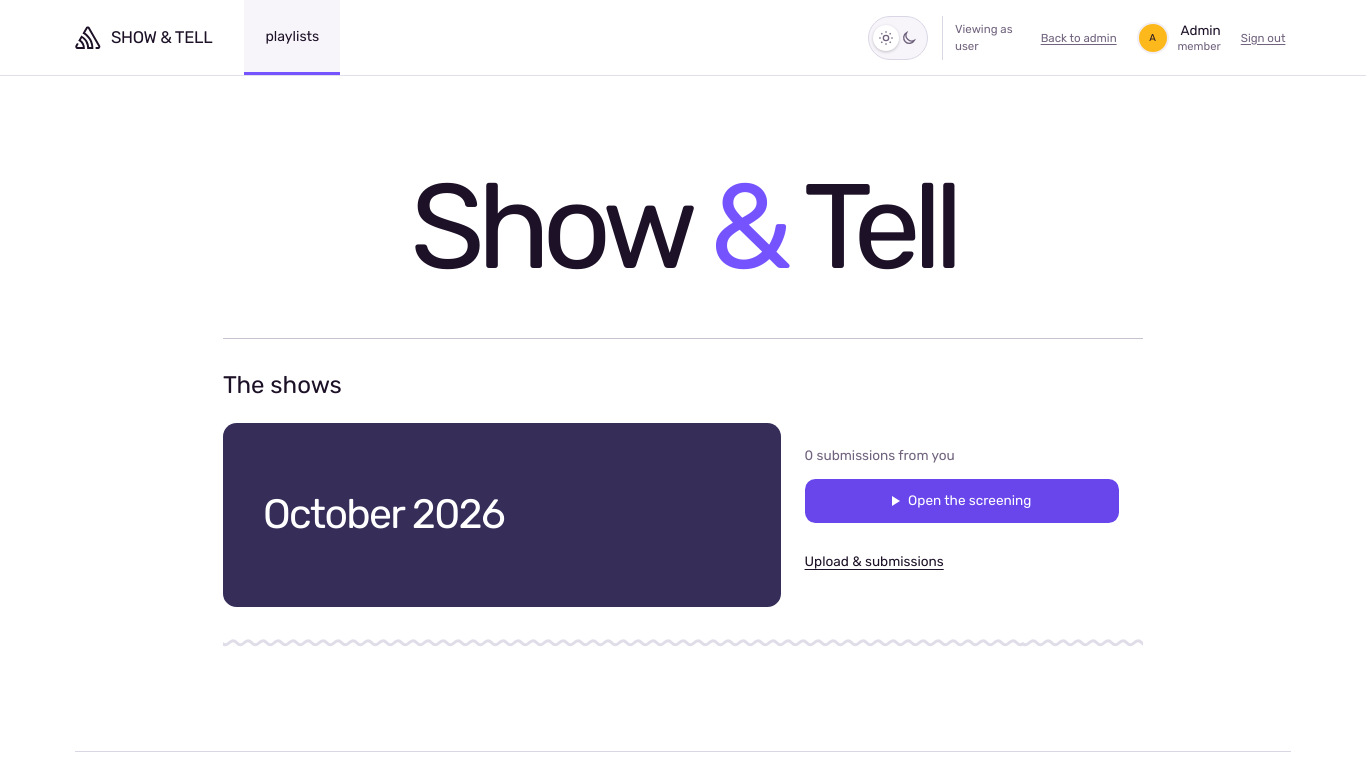
Test case: App › keeps playlist administration separate in member view
Click the link "Upload & submissions" at {"x": 874, "y": 561}, box [805, 553, 944, 569]
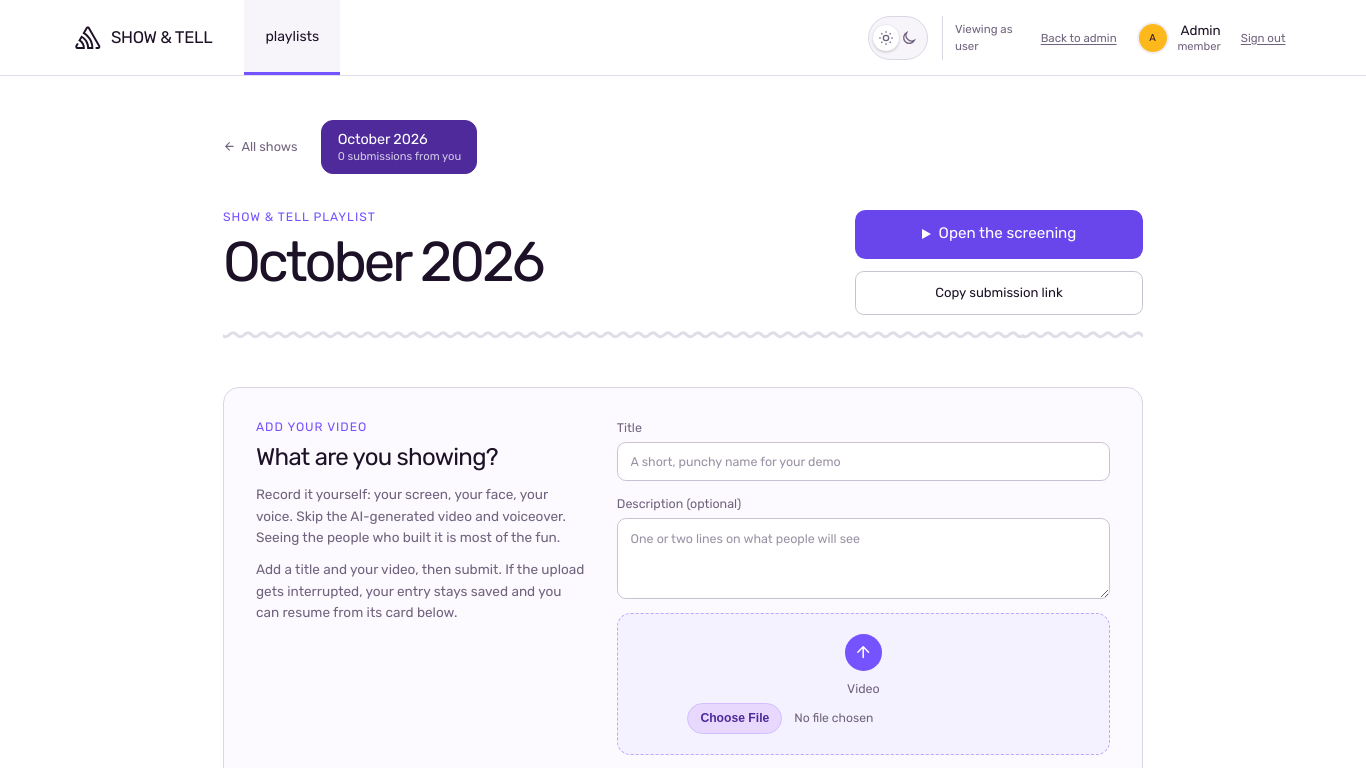
Check: the heading "What are you showing?" is shown, box [256, 443, 498, 471]
